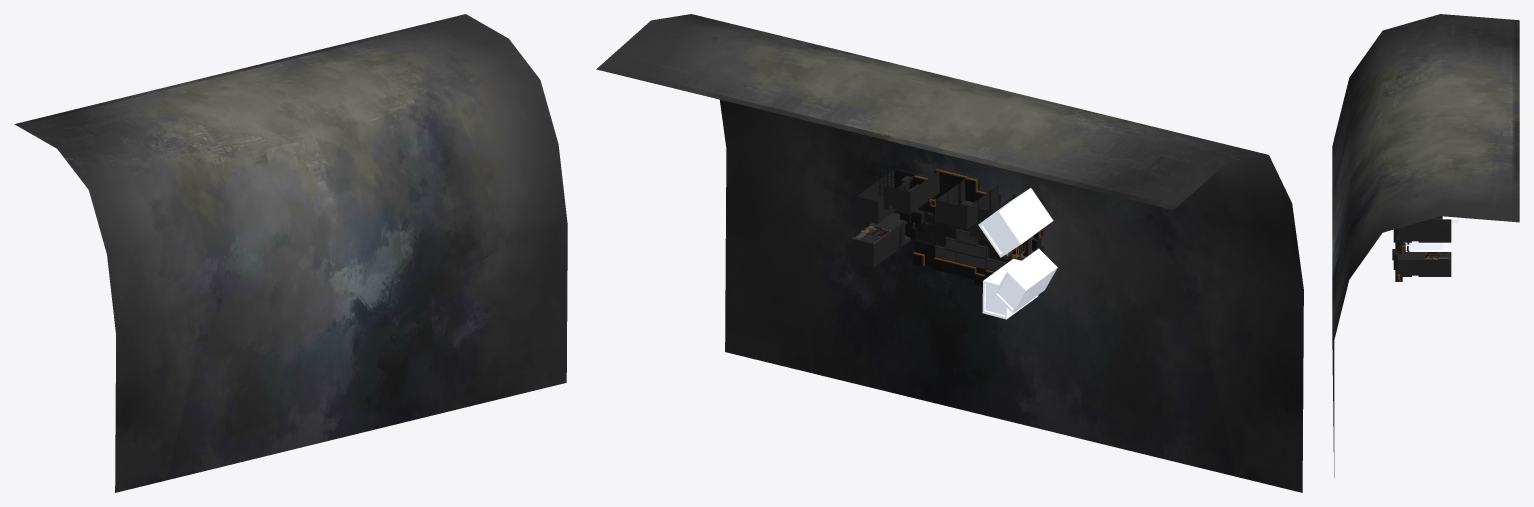
The model's file is BATTLE.fbx.
3 renders of one model, left to right at view 1: azimuth 30°, elevation 25°; view 2: azimuth 150°, elevation 25°; view 3: azimuth 270°, elevation 25°, orthographic. The views are drawn at different scales.
Visible parts, largest first — view 1: BG_Qcity; view 2: BG_Qcity, Shadow (1), Shadow (3), S_Outworld_prop_0374, S_Outworld_prop_0638, S_Outworld_prop_015, Shadow (4), S_Outworld_prop_00; view 3: BG_Qcity, S_Outworld_prop_0638, S_Outworld_prop_0639, S_Outworld_prop_00, S_Outworld_prop_01, Shadow (4).
Part boxes in pixels (x1,y1,x2,y2): BG_Qcity: [14, 14, 567, 492]; BG_Qcity: [596, 14, 1303, 492]; Shadow (1): [978, 188, 1053, 257]; Shadow (3): [994, 248, 1057, 312]; S_Outworld_prop_0374: [936, 177, 998, 228]; S_Outworld_prop_0638: [850, 225, 892, 267]; S_Outworld_prop_015: [883, 170, 939, 214]; Shadow (4): [982, 258, 1038, 319]; S_Outworld_prop_00: [856, 183, 896, 223]; BG_Qcity: [1332, 14, 1519, 477]; S_Outworld_prop_0638: [1425, 252, 1451, 276]; S_Outworld_prop_0639: [1398, 252, 1424, 276]; S_Outworld_prop_00: [1425, 219, 1451, 242]; S_Outworld_prop_01: [1398, 221, 1424, 242]; Shadow (4): [1404, 241, 1443, 249].
Bounding box in the file's own units: 0.5573 × 0.3558 × 0.2179.
